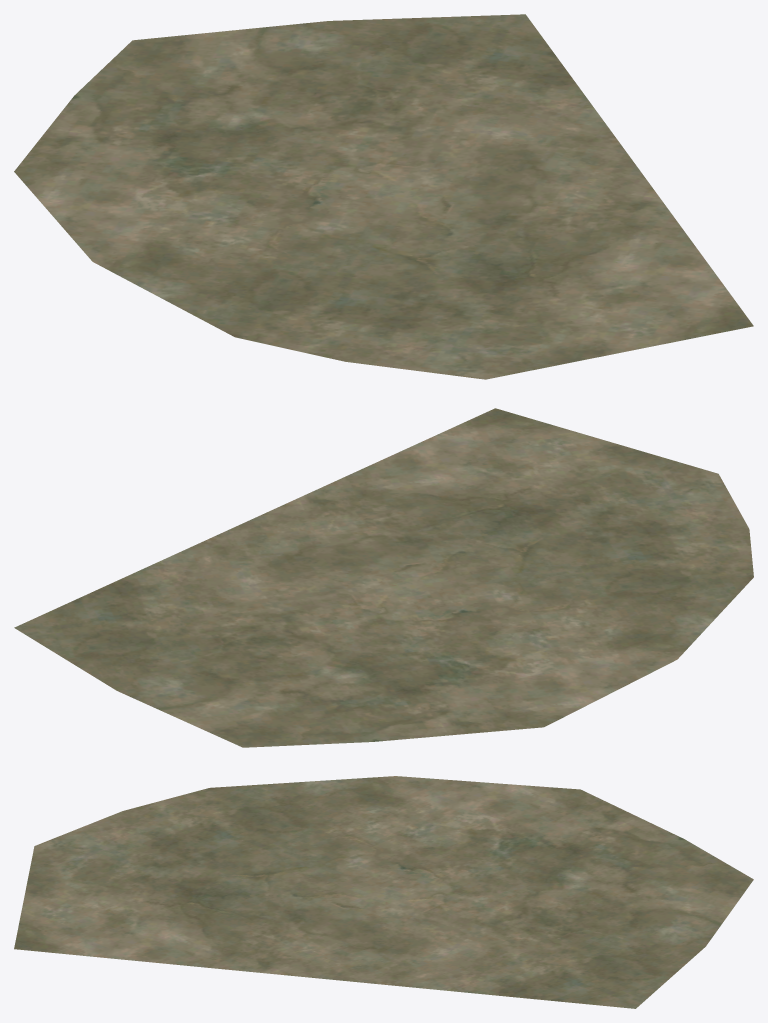
The model's file is OVERHILL_A_01_GROUND_28.fbx.
3 views of the same model, one above another, from view 1: azimuth 30°, elevation 25°; view 2: azimuth 150°, elevation 25°; view 3: azimuth 270°, elevation 25° (orthographic). The views are drawn at different scales.
Parts seen in each view (by area): view 1: OVERHILL_A_01_GROUND_28; view 2: OVERHILL_A_01_GROUND_28; view 3: OVERHILL_A_01_GROUND_28.
Part boxes in pixels (x1,y1,x2,y2): OVERHILL_A_01_GROUND_28: (14, 14, 753, 379); OVERHILL_A_01_GROUND_28: (14, 408, 753, 747); OVERHILL_A_01_GROUND_28: (14, 776, 753, 1008).
Bounding box in the file's own units: 22452 × 0.00491 × 30142.
Materials: 1 (1 with a texture image).
